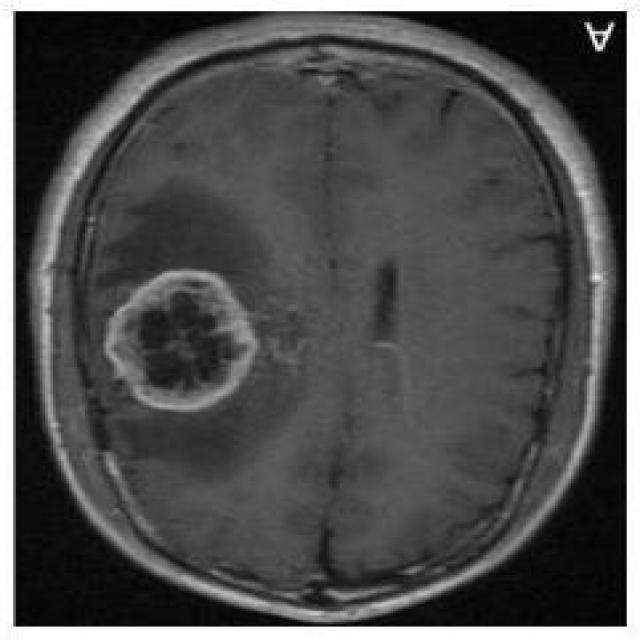Tumor-Cell: (103, 269, 260, 421)
